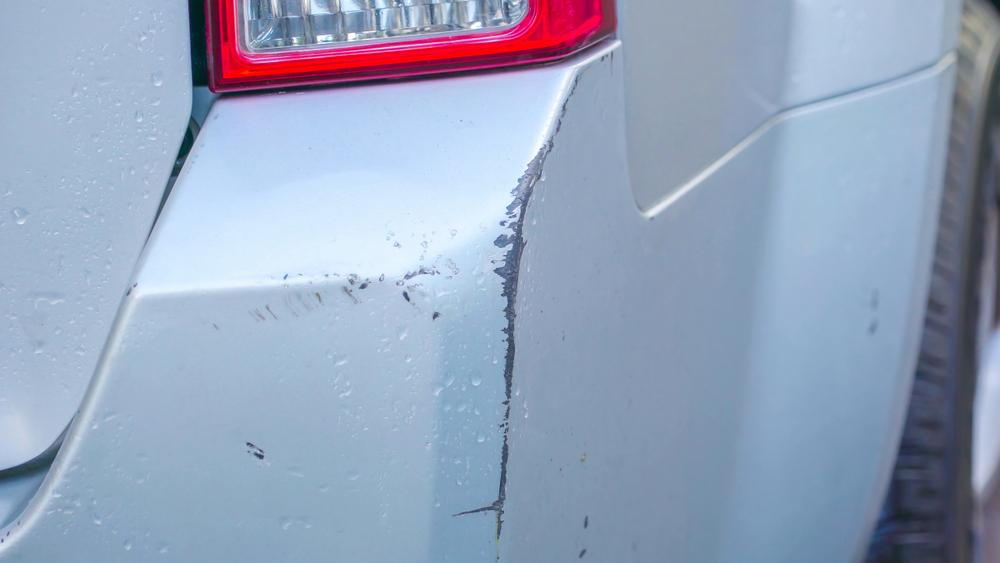scratch: (237, 67, 583, 551)
